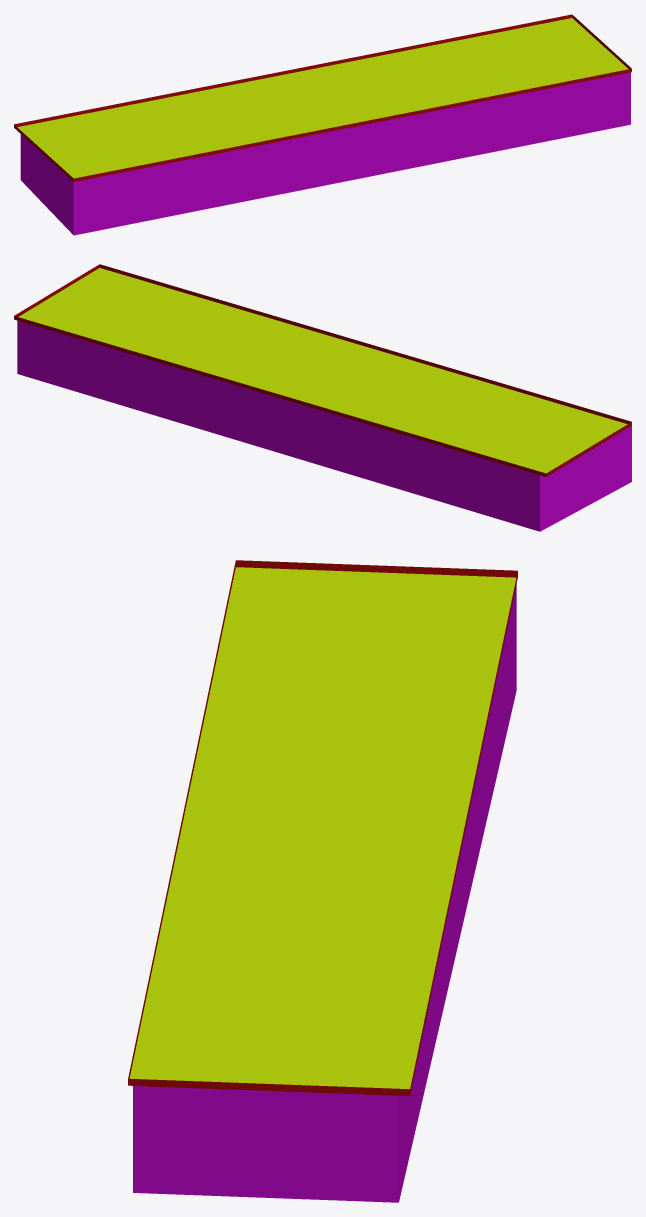
3 views of the same model, one above another, from view 1: azimuth 30°, elevation 25°; view 2: azimuth 150°, elevation 25°; view 3: azimuth 270°, elevation 25° (orthographic). The views are drawn at different scales.
Visible parts, largest first — view 1: sc_58; view 2: sc_58; view 3: sc_58.
Boxes of the visible parts, x1=… form: sc_58: x1=14, y1=14, x2=631, y2=235; sc_58: x1=14, y1=264, x2=631, y2=531; sc_58: x1=128, y1=560, x2=517, y2=1202.
Bounding box in the file's own units: 56.9 × 5.72 × 17.72.
